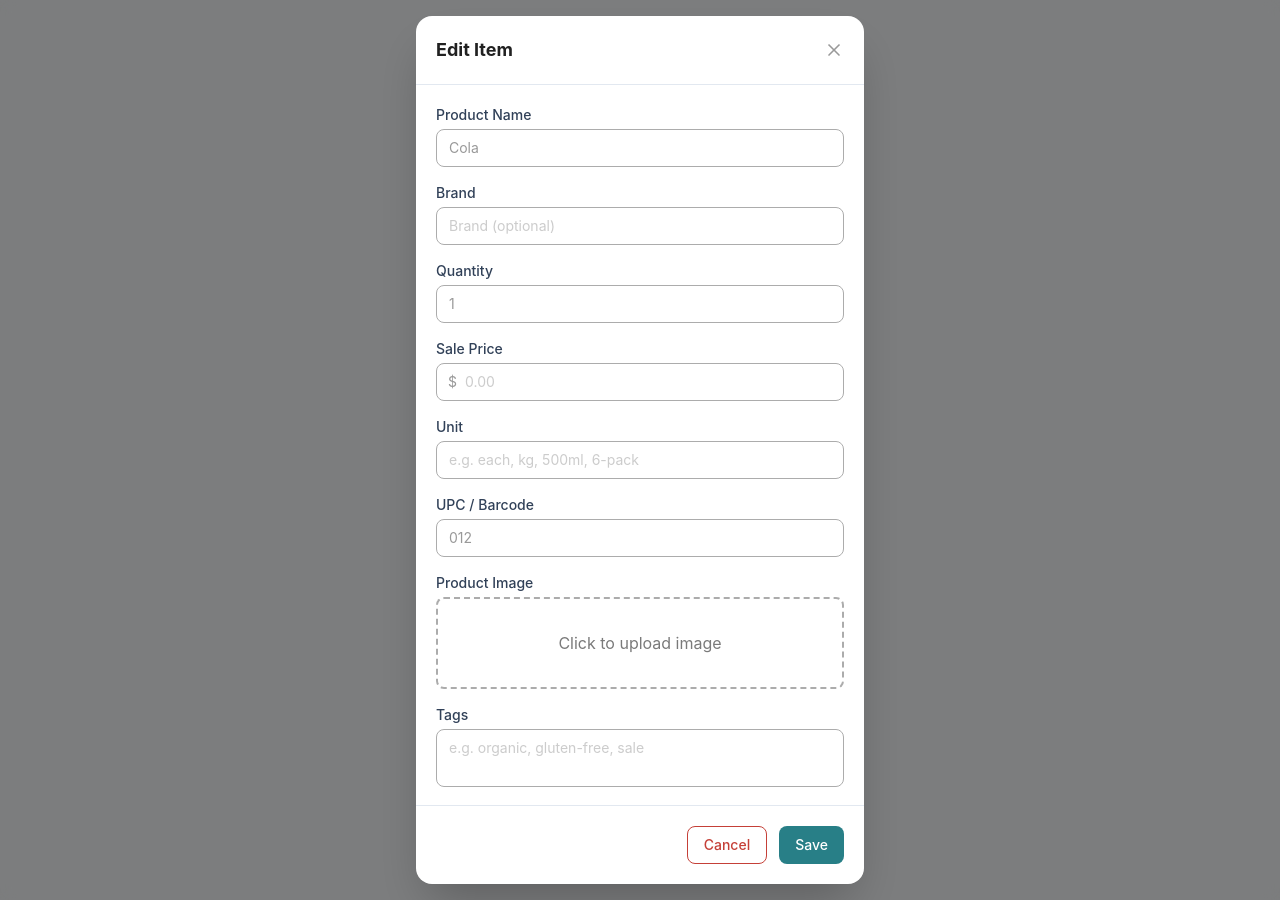
it: scan session EditItemModal quantity › can be cleared, and Save waits for a quantity
Clear the number field labelled "Quantity". click: (640, 304)
box: [436,285,844,323]
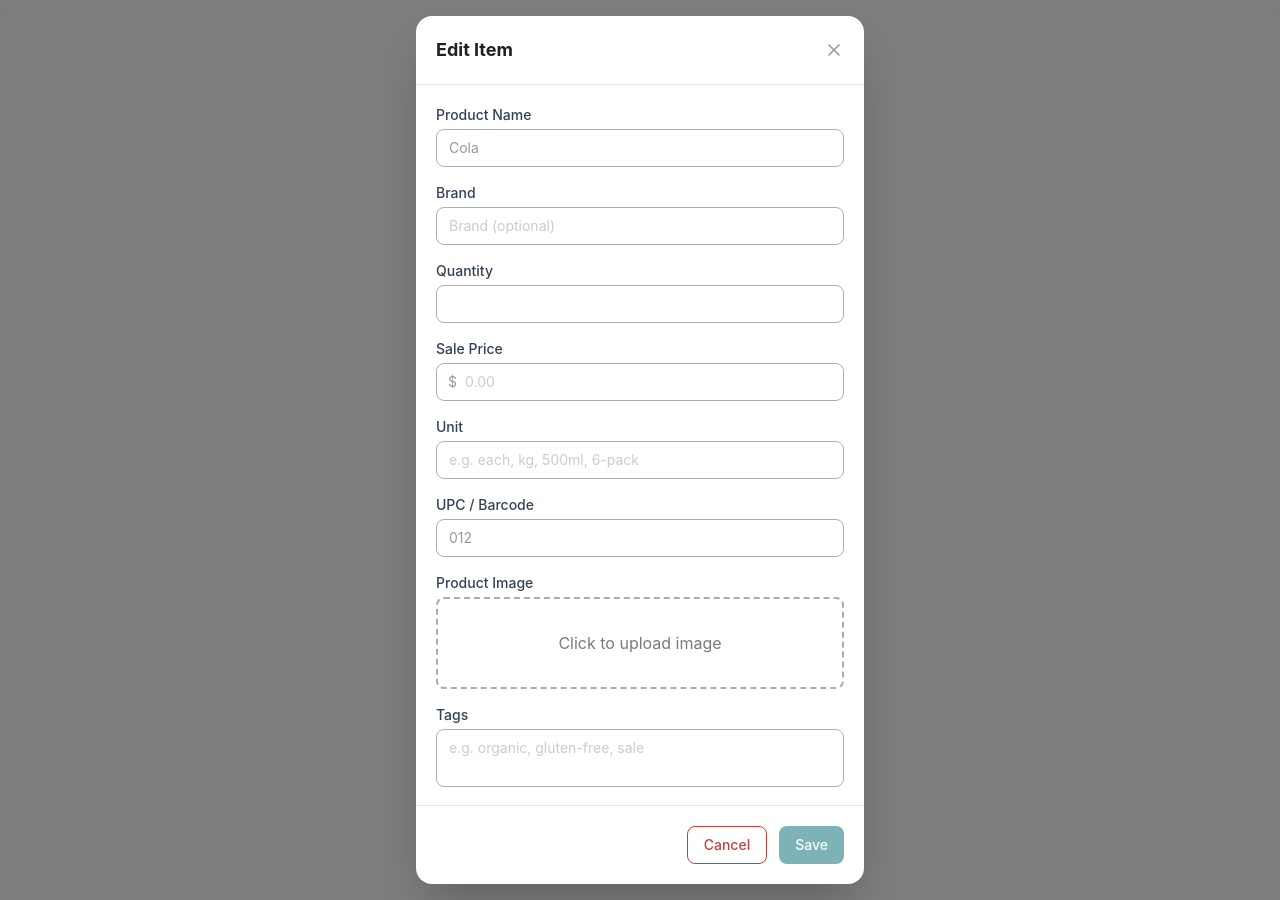
Result: the button "Save" is disabled at [779,826,844,864]
Type "3" into the number field labelled "Quantity". click: (640, 304)
box: [436,285,844,323]
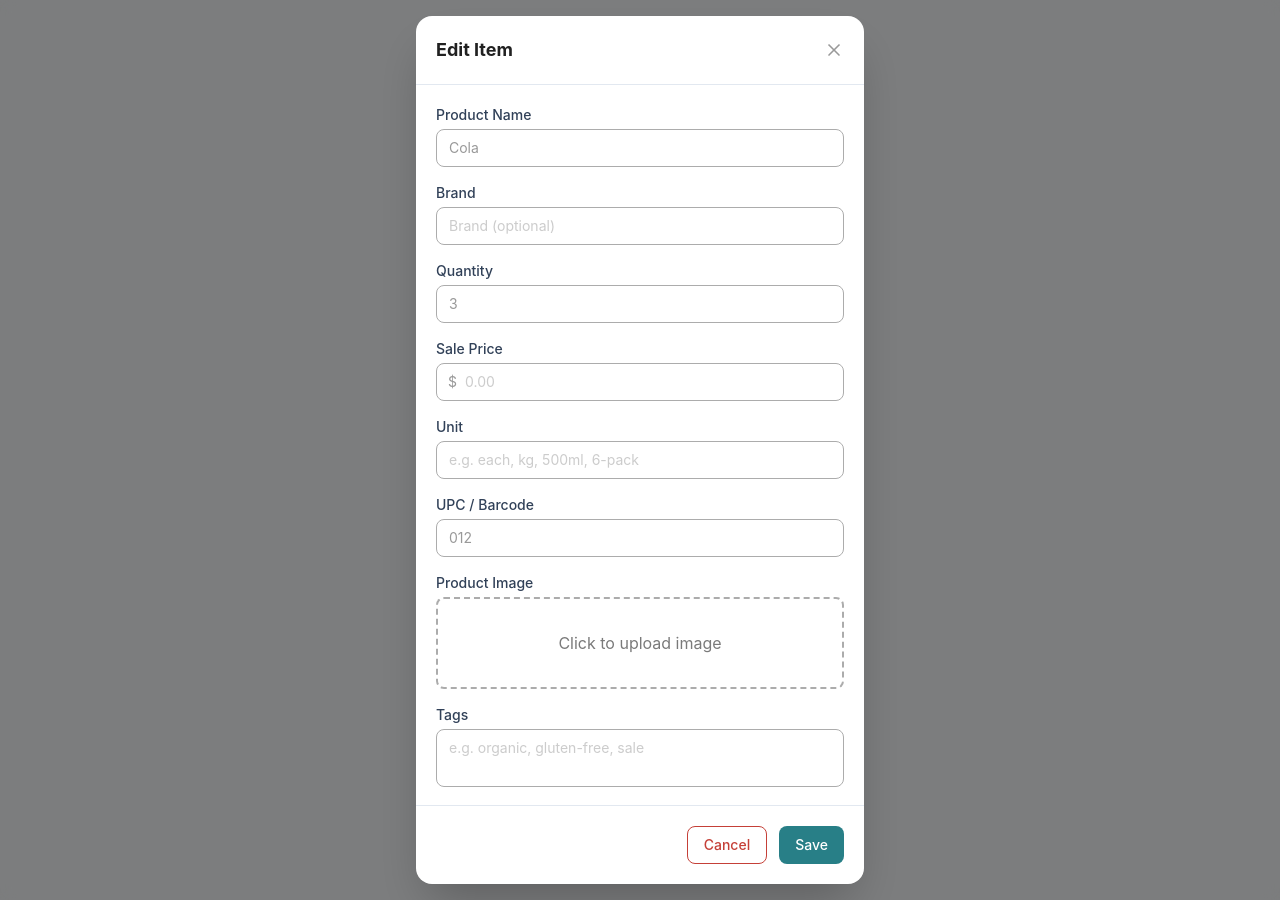
Result: the button "Save" is enabled at [779,826,844,864]
